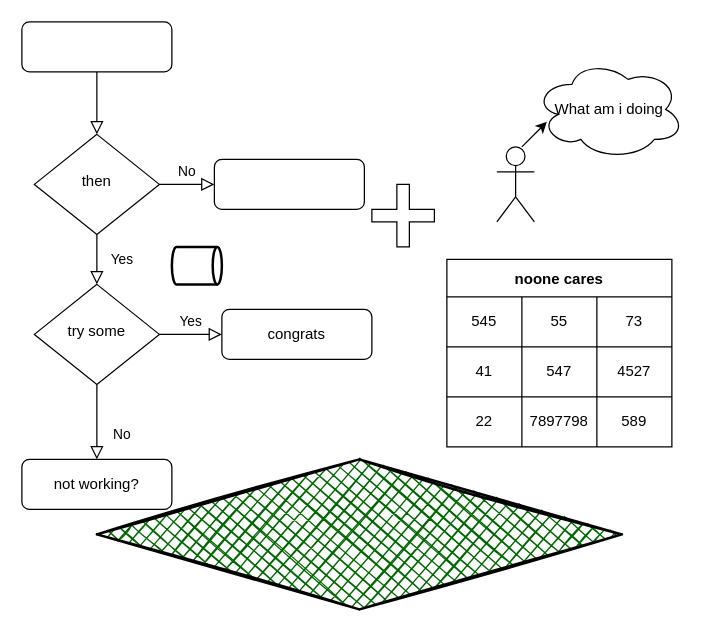
Image size: 706x633. Some labels were removed from this diagram. Here are the shapes that lost their labels. From the top down, the box of each, then its label:
(21, 21, 172, 72): if you do it
(213, 158, 364, 209): final
(496, 146, 534, 222): Actor
